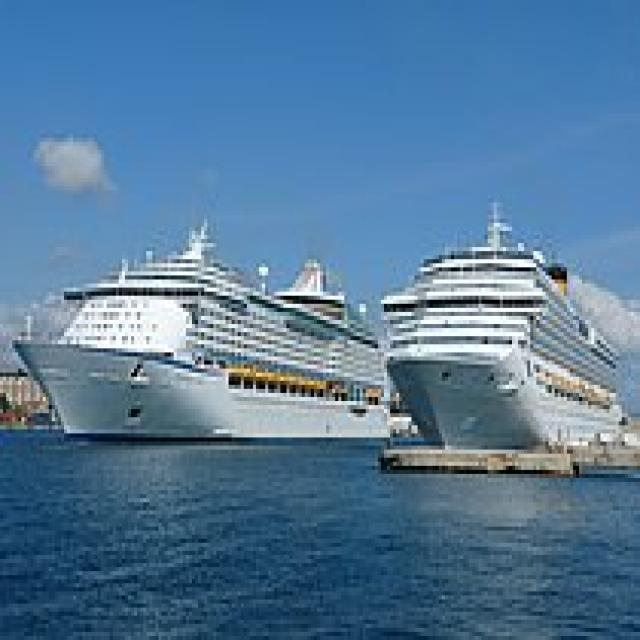Ship: (1, 211, 403, 454), (376, 195, 629, 459)
